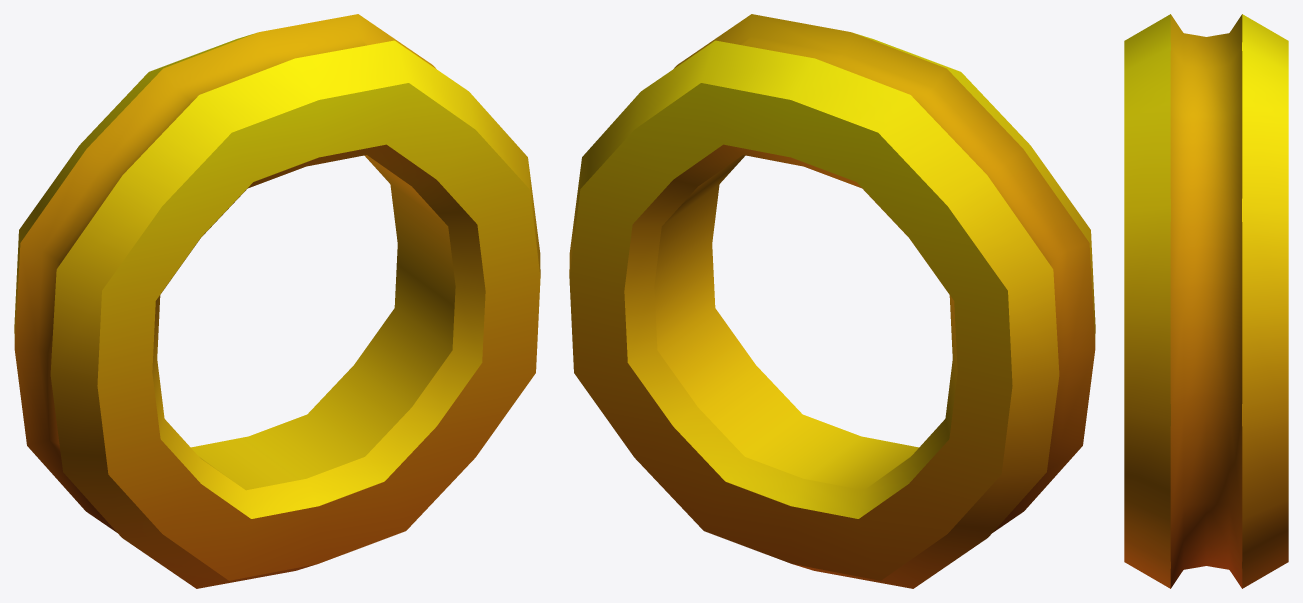
File: Gold_Ring_03.glb
3 views of the same model, side by side, from view 1: azimuth 30°, elevation 25°; view 2: azimuth 150°, elevation 25°; view 3: azimuth 270°, elevation 25° (orthographic).
Parts seen in each view (by area): view 1: Gold_Ring_03; view 2: Gold_Ring_03; view 3: Gold_Ring_03.
Boxes of the visible parts, bbox=[...] form: Gold_Ring_03: bbox=[14, 14, 540, 588]; Gold_Ring_03: bbox=[569, 14, 1095, 588]; Gold_Ring_03: bbox=[1124, 14, 1288, 588].
Size of the model in its own units: 0.5035 by 0.5035 by 0.1478.
Materials: 1 (1 with a texture image).
